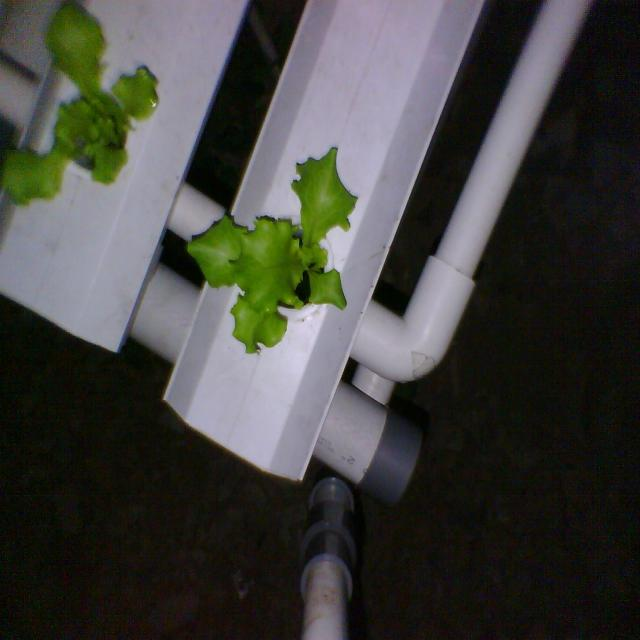FN: (183, 138, 359, 365), (1, 0, 165, 220)
